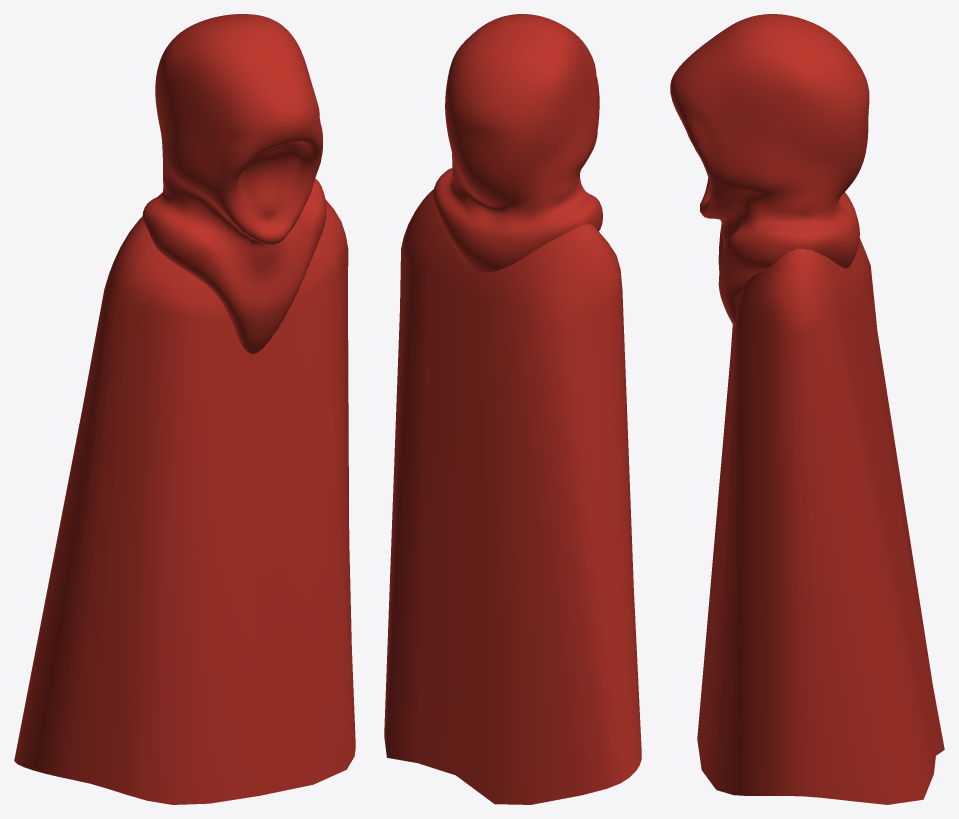
Rendered from Enemy.gltf.
3 renders of one model, left to right at view 1: azimuth 30°, elevation 25°; view 2: azimuth 150°, elevation 25°; view 3: azimuth 270°, elevation 25°, orthographic. The views are drawn at different scales.
Visible parts, largest first — view 1: Enemy; view 2: Enemy; view 3: Enemy.
Boxes of the visible parts, x1,y1,x2,y2 form: Enemy: (14, 14, 355, 804); Enemy: (384, 14, 641, 804); Enemy: (670, 14, 944, 804).
Size of the model in its own units: 0.7322 by 1.88 by 0.6209.
